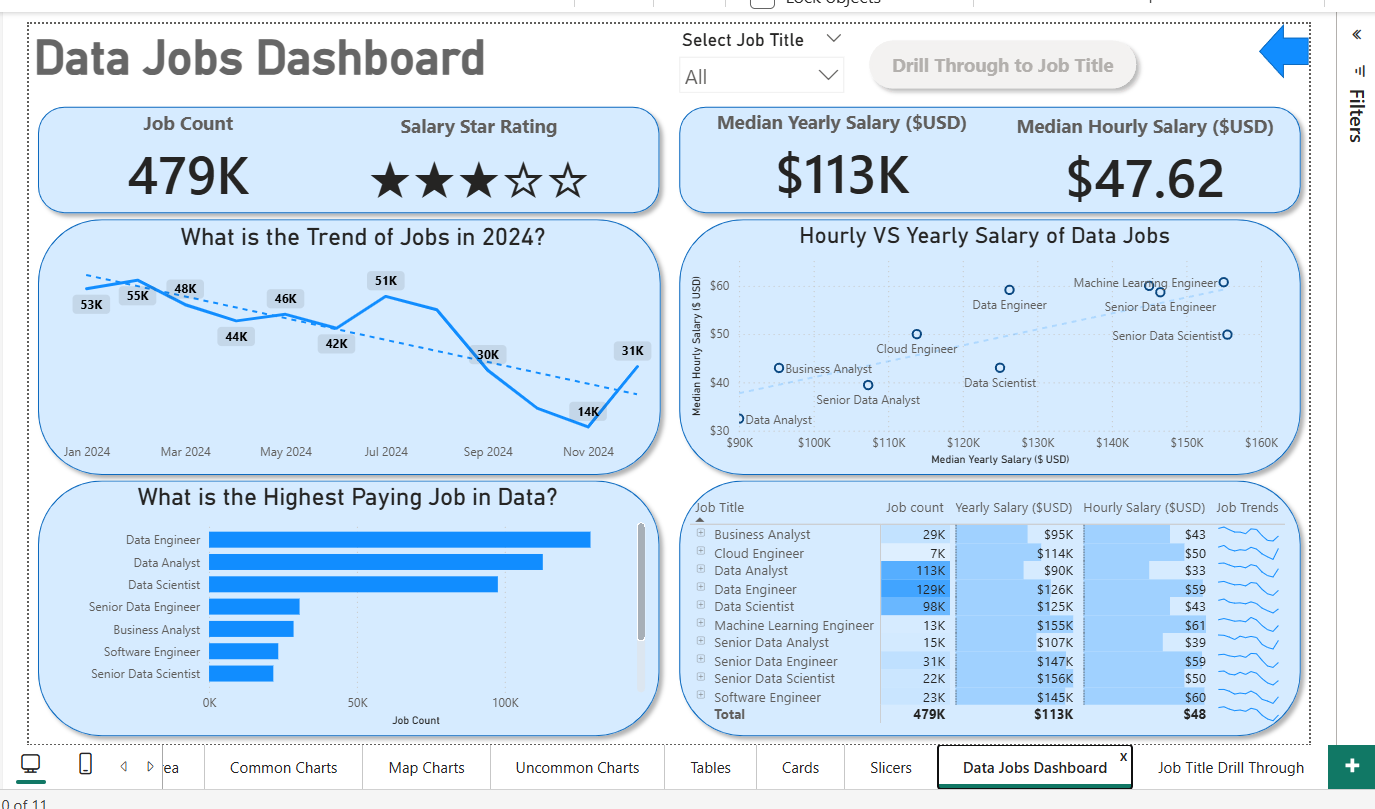

This screenshot's page, from the dashboard's own definition file:
{"tool":"powerbi","page":{"name":"Data Jobs Dashboard","canvas":[1280,720],"ordinal":9},"visuals":[{"type":"group","id":"g1","title":"Background","box":[0,73.4,1280,646.9],"z":0},{"type":"textbox","box":[0,0,639.4,68.4],"z":1000},{"type":"slicer","fields":{"Values":["job_postings_flat.job_title_short"]},"box":[639.4,0,185.3,68.4],"z":2000},{"type":"cardVisual","fields":{"Data":["Median(job_postings_flat.salary_year_avg)"]},"box":[657.5,71.7,311.7,125.8],"z":3000},{"type":"cardVisual","fields":{"Data":["Median(job_postings_flat.salary_hour_avg)"]},"box":[956.2,76.2,320,123.8],"z":4000},{"type":"cardVisual","fields":{"Data":["CountNonNull(job_postings_flat.job_title_short)"]},"box":[28.3,71.7,261.7,128.3],"z":5000},{"type":"cardVisual","fields":{"Data":["job_postings_flat.Salary Star Rating"]},"box":[290,73.3,320.8,129.2],"z":6000},{"type":"lineChart","title":"What is the Trend of Jobs in 2024?","fields":{"Category":["job_postings_flat.job_posted_date.Variation.Date Hierarchy.Year","job_postings_flat.job_posted_date.Variation.Date Hierarchy.Quarter","job_postings_flat.job_posted_date.Variation.Date Hierarchy.Month","job_postings_flat.job_posted_date.Variation.Date Hierarchy.Day"],"Y":["CountNonNull(job_postings_flat.job_title_short)"]},"box":[28.3,199.2,610.8,247.5],"z":7000},{"type":"barChart","title":"What is the Highest Paying Job in Data?","fields":{"Category":["job_postings_flat.job_title_short"],"Y":["CountNonNull(job_postings_flat.job_title_short)"]},"box":[15.7,459.3,605,248.6],"z":8000},{"type":"scatterChart","title":"Hourly VS Yearly Salary of Data Jobs ","fields":{"X":["Median(job_postings_flat.salary_year_avg)1"],"Series":["job_postings_flat.job_title_short"],"Y":["job_postings_flat.salary_hour_avg"]},"box":[657.5,197.5,596.7,249.2],"z":9000},{"type":"shape","box":[0,73.4,639.4,124.4],"z":10000,"group":"g1"},{"type":"pivotTable","fields":{"Rows":["job_postings_flat.job_title_short","job_postings_flat.job_posted_date.Variation.Date Hierarchy.Quarter"],"Values":["CountNonNull(job_postings_flat.job_title_short)","Median(job_postings_flat.salary_year_avg)","Median(job_postings_flat.salary_hour_avg)","SparklineData(CountNonNull(job_postings_flat.job_title_short)_[job_postings_flat.job_posted_date.Variation.Date Hierarch"]},"box":[655.7,469.3,607.9,238.6],"z":10000},{"type":"actionButton","box":[831,7.5,284.9,65.9],"z":10001},{"type":"shape","box":[1230.2,0,49.8,54.7],"z":10002},{"type":"shape","box":[640.6,73.4,639.4,124.4],"z":11000,"group":"g1"},{"type":"shape","box":[0,185.4,640.6,273.7],"z":12000,"group":"g1"},{"type":"shape","box":[0,446.6,639.4,273.7],"z":13000,"group":"g1"},{"type":"shape","box":[640.6,185.4,639.4,273.7],"z":14000,"group":"g1"},{"type":"shape","box":[640.6,446.6,639.4,273.7],"z":15000,"group":"g1"}]}

Visuals, with their boxes on the page's 1280x720 design canvas (x1, y1, x2, y2). These are canvas units, not pixel positions in the 1375x809 screenshot, which may show the page scaled, cropped or inside an application window:
"Background" group: {"x1": 0, "y1": 73, "x2": 1280, "y2": 720}
textbox: {"x1": 0, "y1": 0, "x2": 639, "y2": 68}
slicer - job_postings_flat.job_title_short: {"x1": 639, "y1": 0, "x2": 825, "y2": 68}
cardVisual - Median(job_postings_flat.salary_year_avg): {"x1": 658, "y1": 72, "x2": 969, "y2": 198}
cardVisual - Median(job_postings_flat.salary_hour_avg): {"x1": 956, "y1": 76, "x2": 1276, "y2": 200}
cardVisual - CountNonNull(job_postings_flat.job_title_short): {"x1": 28, "y1": 72, "x2": 290, "y2": 200}
cardVisual - job_postings_flat.Salary Star Rating: {"x1": 290, "y1": 73, "x2": 611, "y2": 202}
"What is the Trend of Jobs in 2024?" lineChart: {"x1": 28, "y1": 199, "x2": 639, "y2": 447}
"What is the Highest Paying Job in Data?" barChart: {"x1": 16, "y1": 459, "x2": 621, "y2": 708}
"Hourly VS Yearly Salary of Data Jobs " scatterChart: {"x1": 658, "y1": 198, "x2": 1254, "y2": 447}
shape: {"x1": 0, "y1": 73, "x2": 639, "y2": 198}
pivotTable - job_postings_flat.job_title_short x job_postings_flat.job_posted_date.Variation.Date Hierarchy.Quarter: {"x1": 656, "y1": 469, "x2": 1264, "y2": 708}
actionButton: {"x1": 831, "y1": 8, "x2": 1116, "y2": 73}
shape: {"x1": 1230, "y1": 0, "x2": 1280, "y2": 55}
shape: {"x1": 641, "y1": 73, "x2": 1280, "y2": 198}
shape: {"x1": 0, "y1": 185, "x2": 641, "y2": 459}
shape: {"x1": 0, "y1": 447, "x2": 639, "y2": 720}
shape: {"x1": 641, "y1": 185, "x2": 1280, "y2": 459}
shape: {"x1": 641, "y1": 447, "x2": 1280, "y2": 720}
